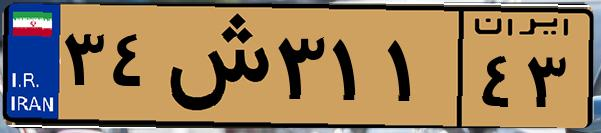1: (385, 28, 445, 110), (330, 28, 385, 110)
3: (270, 28, 330, 110), (57, 26, 110, 100), (525, 38, 570, 115)
4: (475, 38, 525, 113), (110, 28, 158, 98)
ش: (158, 12, 270, 120)
